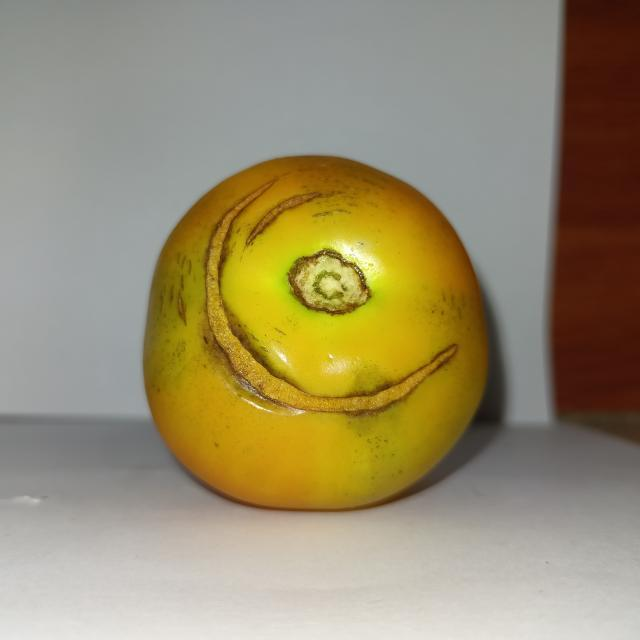Red: (141, 152, 491, 512)
